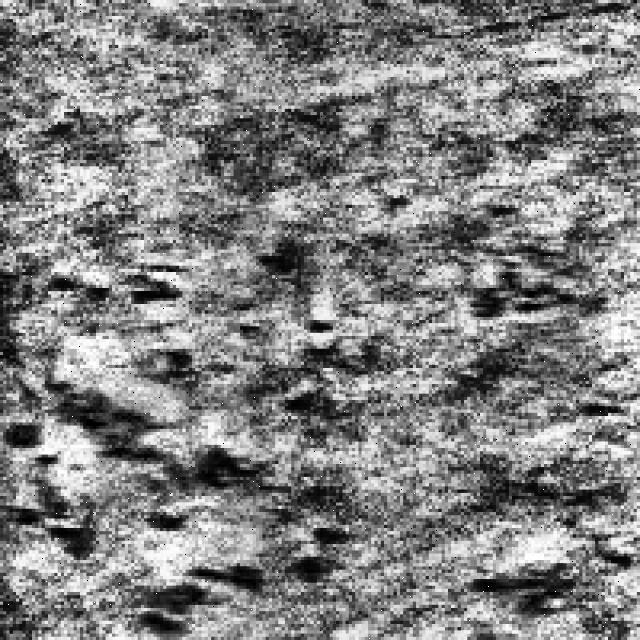Crazing: (4, 240, 326, 637), (460, 182, 580, 349), (448, 538, 627, 620)
